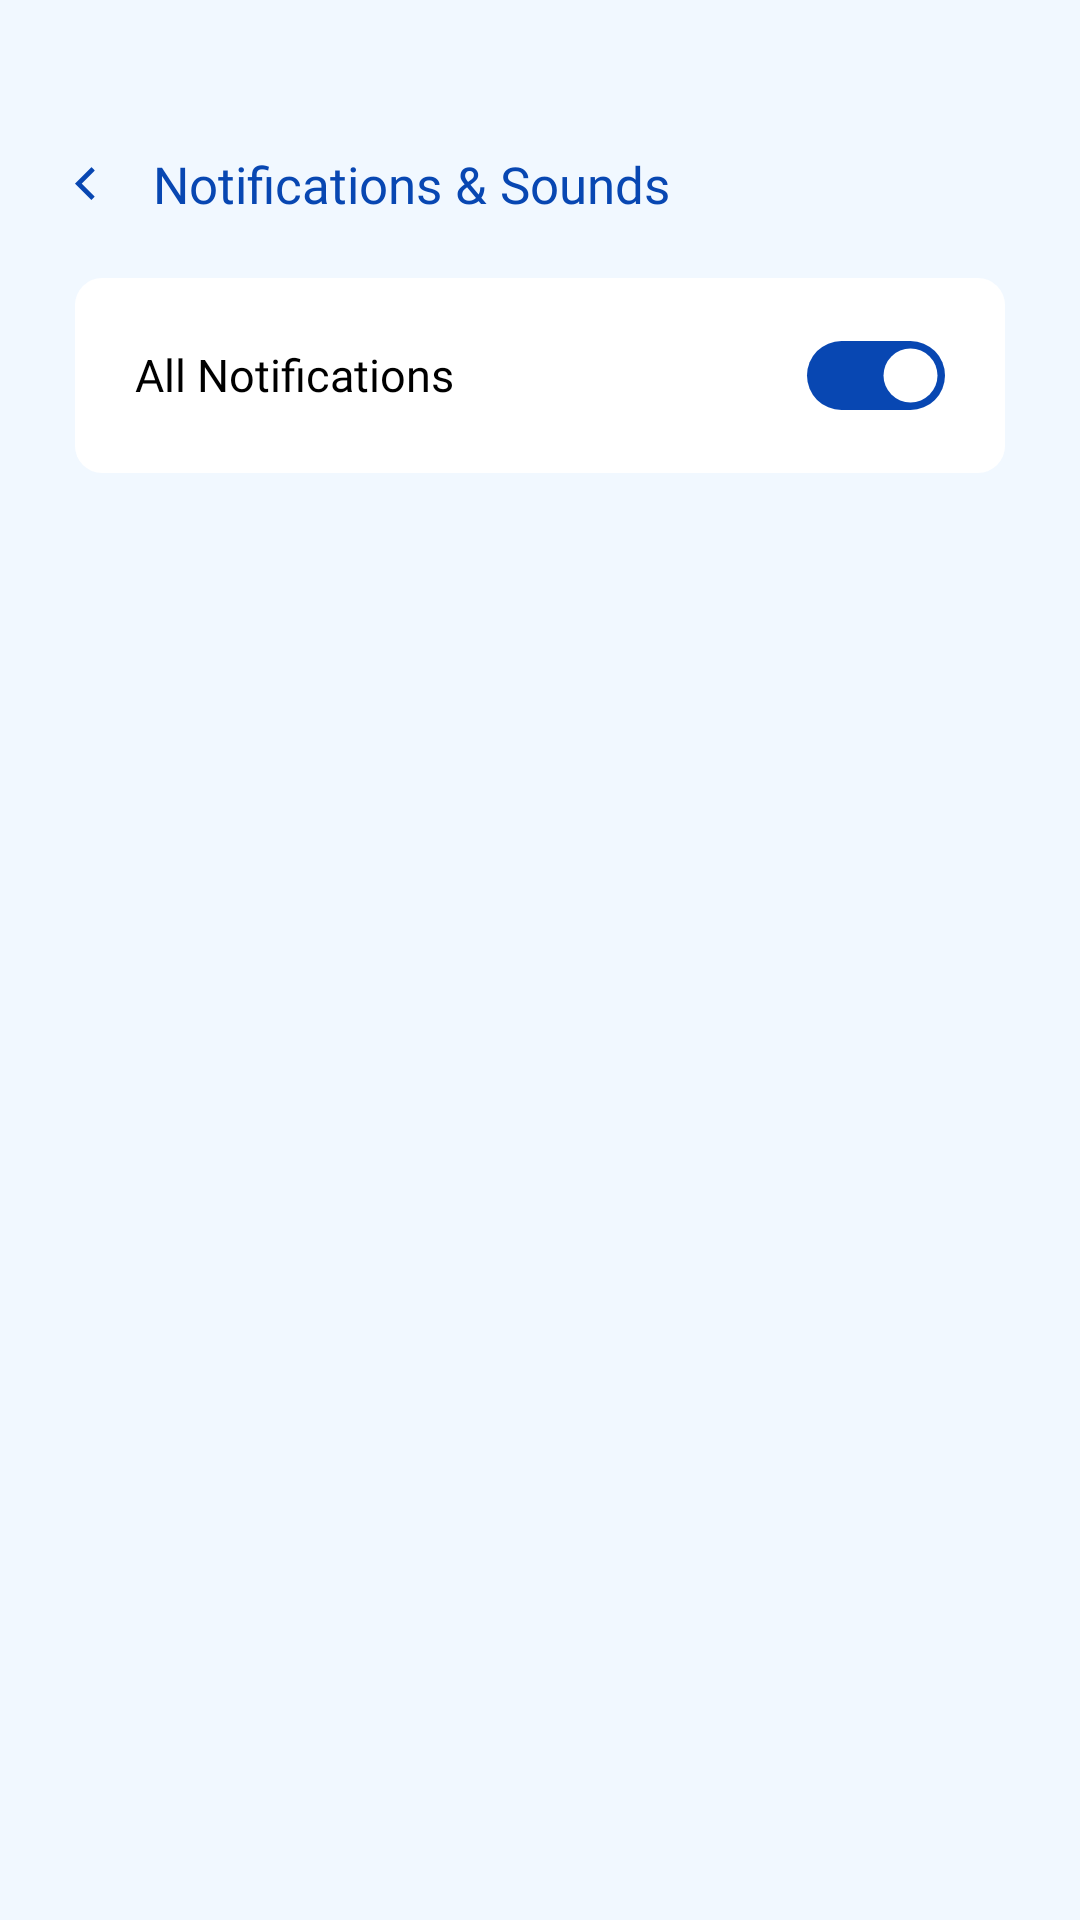

Icon bounding boxes for this 1080w x 1920h phone screenshot, format {"x1": x1, "y1": y1, "x2": x2, "y2": y2}:
return: {"x1": 75, "y1": 167, "x2": 95, "y2": 200}
